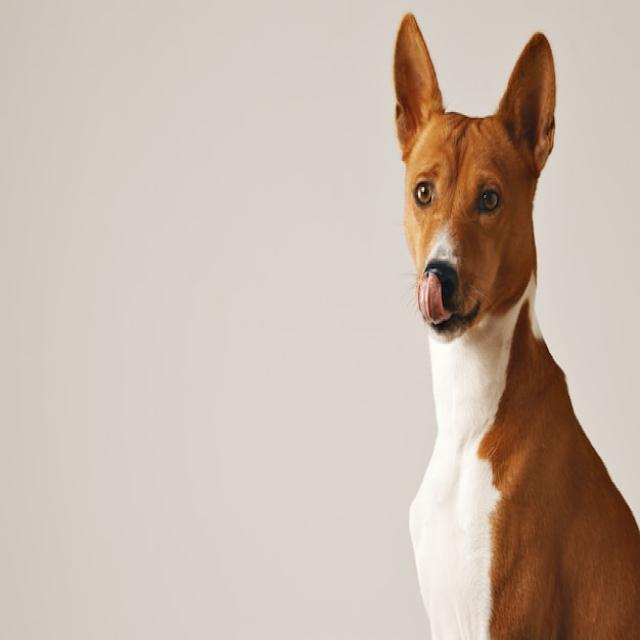Dog: (393, 15, 640, 639)
